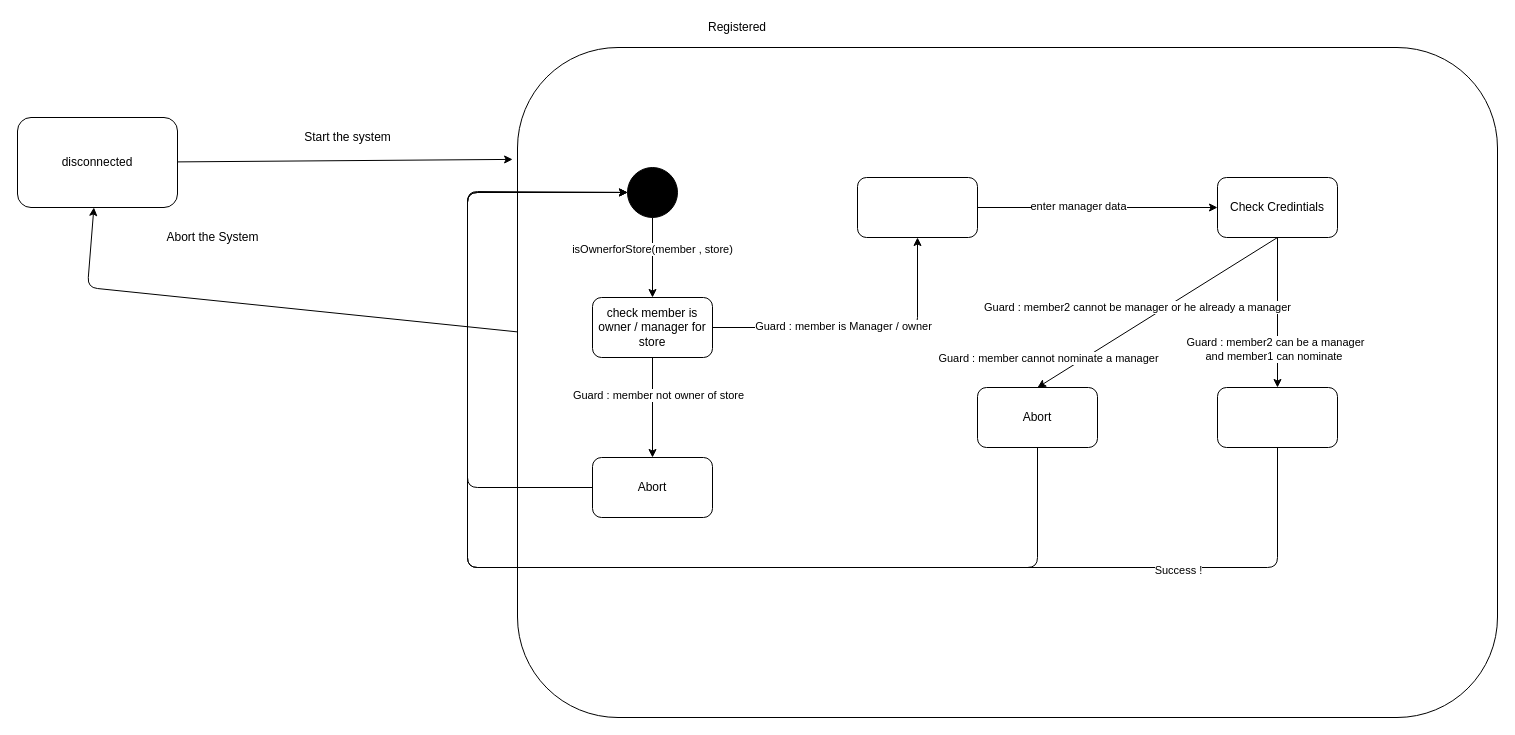
This 1515x735 diagram has some shape labels left out. The shapes that lost their labels are listed below. From the top down, each one's centre as x and y in pixels, then its label:
At (917,207): "Choose member to be a manager".
At (1277,417): "Appoint (nominate) manager2".
